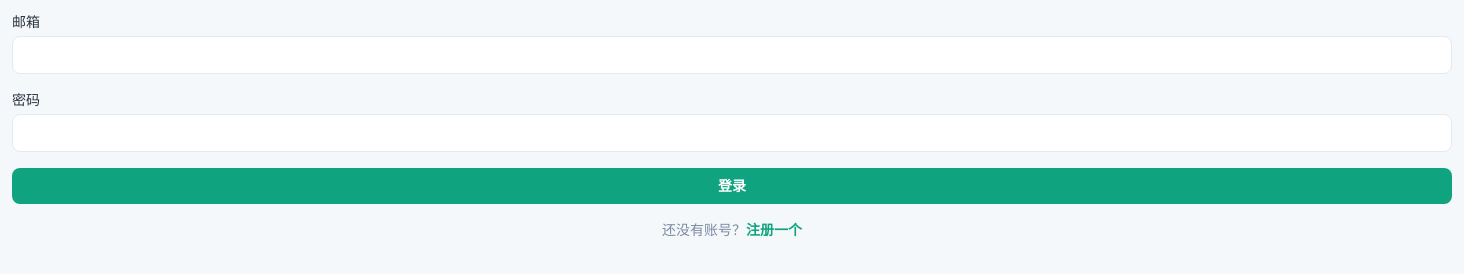
Test: LoginForm › 字段级错误内联显示
Type "lu@campus.dev" into the field labelled "邮箱". click: (732, 55)
box: [12,36,1452,74]
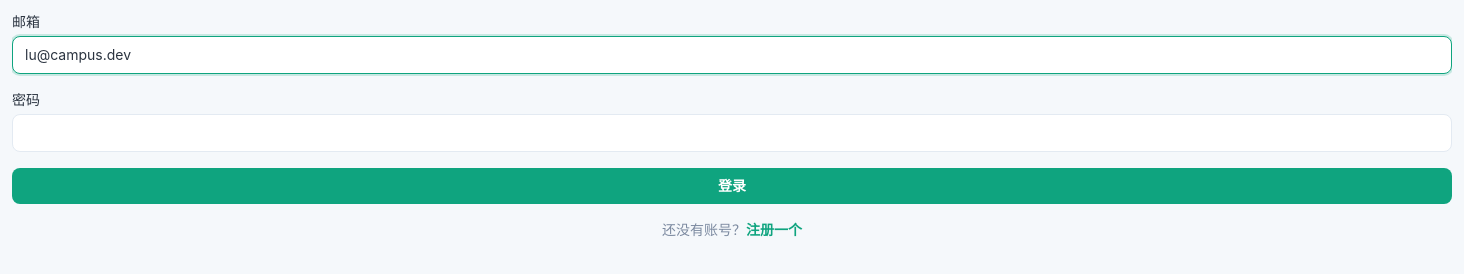
Type "short" into the password field labelled "密码". click: (732, 133)
box: [12,114,1452,152]
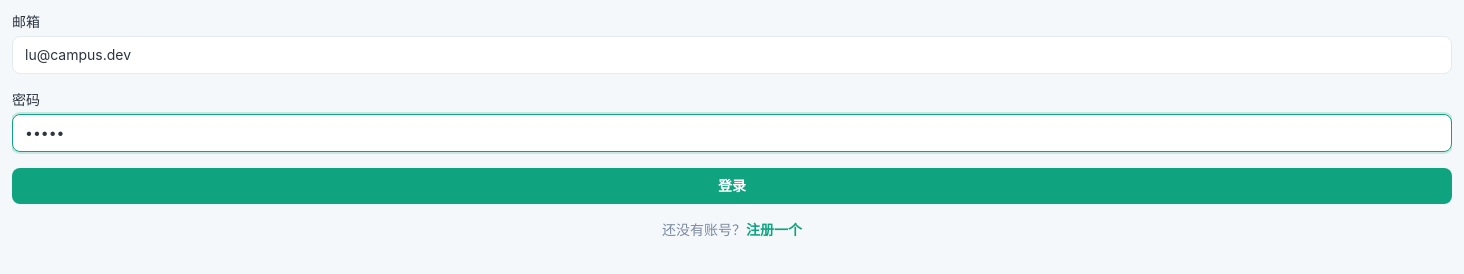
Click the button "登录". click: (732, 186)
box: [12,168,1452,204]
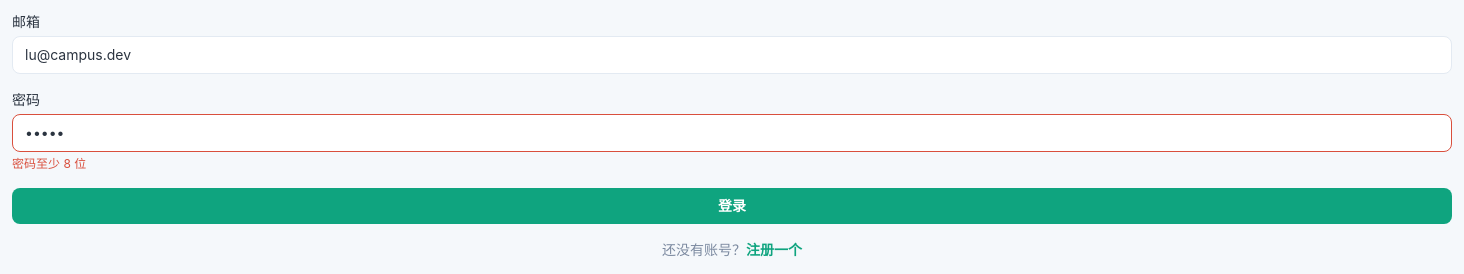
Result: the text "密码至少 8 位" is shown at [12,156,86,171]
